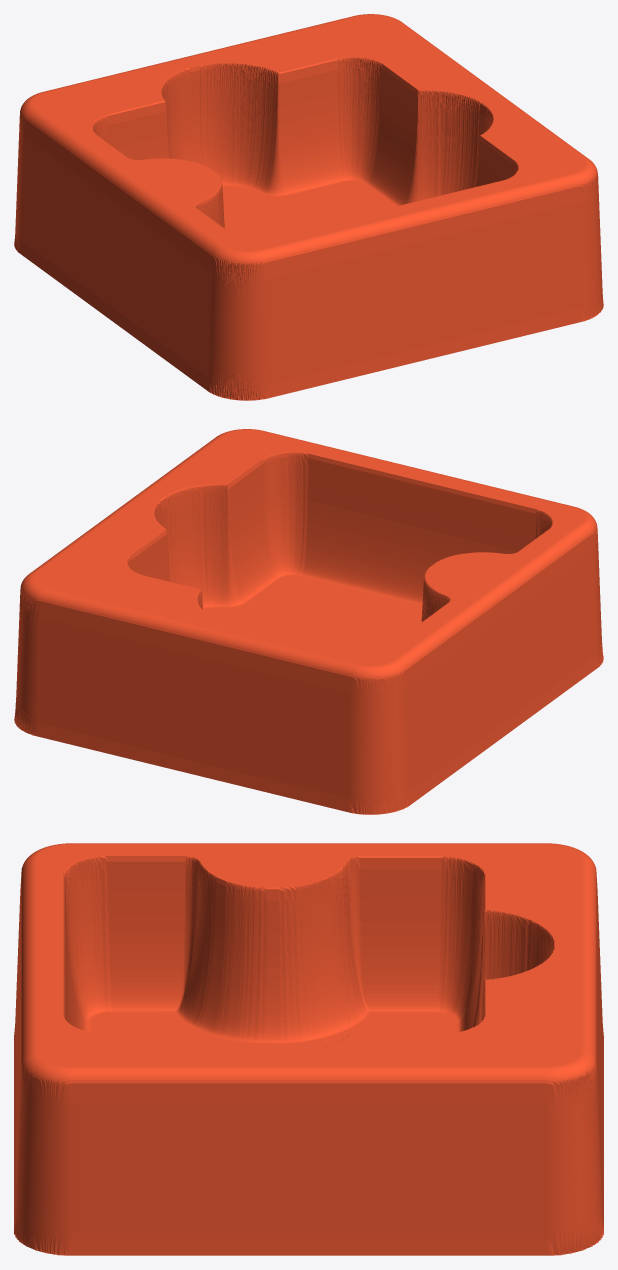
File: mold.glb
3 renders of one model, top to bottom at view 1: azimuth 30°, elevation 25°; view 2: azimuth 150°, elevation 25°; view 3: azimuth 270°, elevation 25°, orthographic. The views are drawn at different scales.
Visible parts, largest first — view 1: geometry_0; view 2: geometry_0; view 3: geometry_0.
Part boxes in pixels (left/top/right/bottom): geometry_0: left=14, top=14, right=603, bottom=400; geometry_0: left=14, top=429, right=603, bottom=814; geometry_0: left=14, top=843, right=603, bottom=1255.
Size of the model in its own units: 0.0894 by 0.031 by 0.0924.
